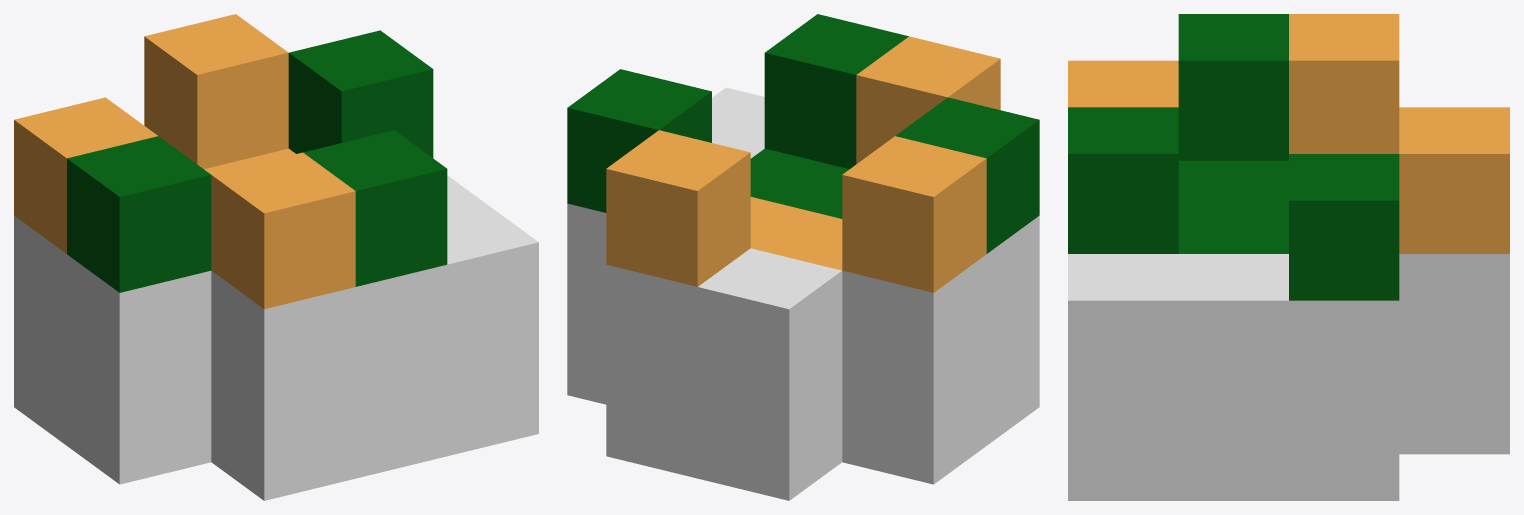
The model's file is Items-5.obj.
3 renders of one model, left to right at view 1: azimuth 30°, elevation 25°; view 2: azimuth 150°, elevation 25°; view 3: azimuth 270°, elevation 25°, orthographic. The views are drawn at different scales.
Size of the model in its own units: 0.4 by 0.3 by 0.4.
Materials: 1 (1 with a texture image).
